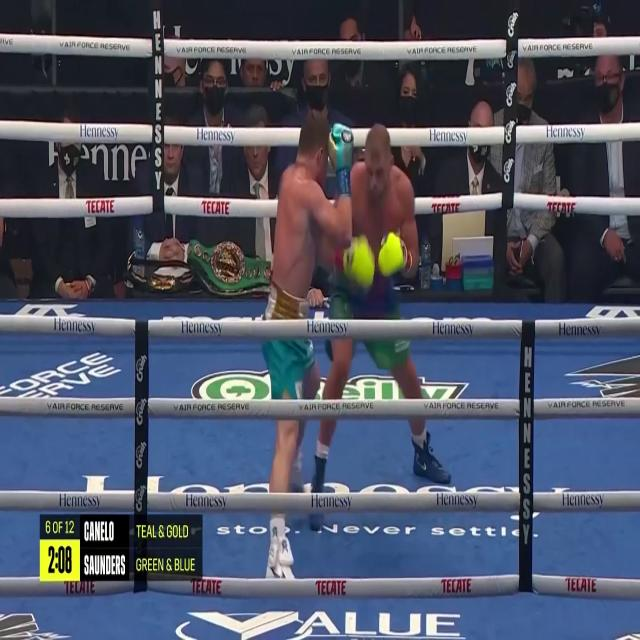boxer_1: (351, 124, 406, 257)
boxer_2: (273, 113, 327, 299)
gloves_1: (334, 235, 374, 284), (378, 232, 410, 276)
gloves_2: (328, 124, 353, 200)
